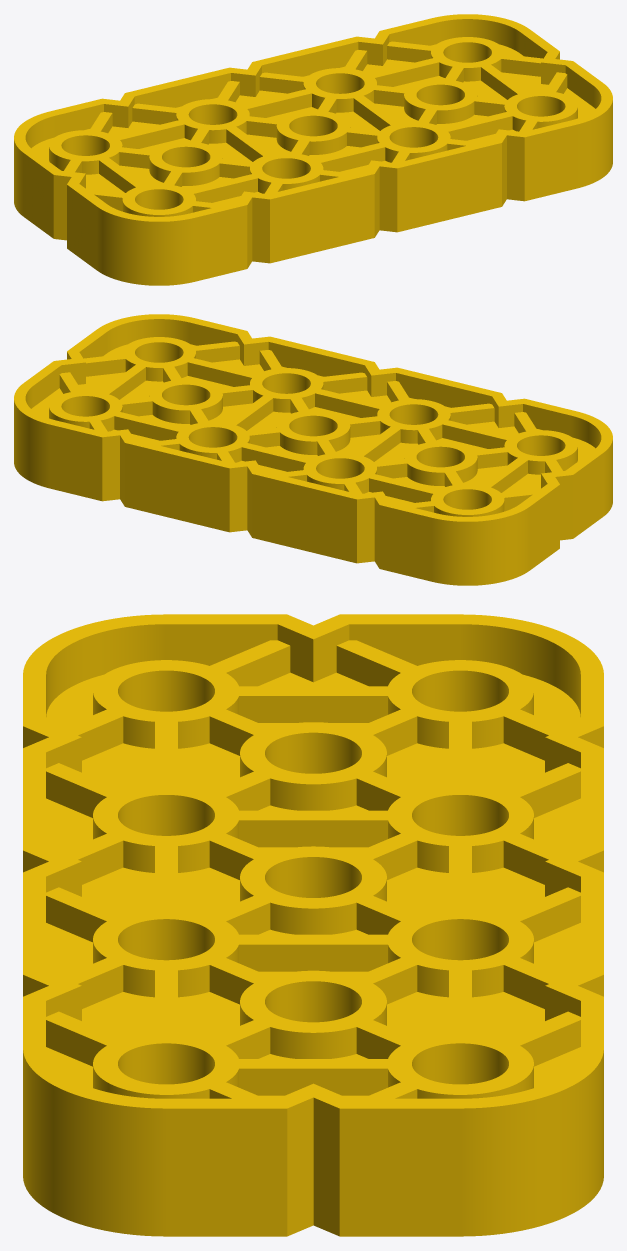
3 renders of one model, top to bottom at view 1: azimuth 30°, elevation 25°; view 2: azimuth 150°, elevation 25°; view 3: azimuth 270°, elevation 25°, orthographic. The views are drawn at different scales.
Parts seen in each view (by area): view 1: 228-2500-019; view 2: 228-2500-019; view 3: 228-2500-019.
Part boxes in pixels (x1,y1,x2,y2): 228-2500-019: [14, 14, 612, 285]; 228-2500-019: [14, 314, 612, 585]; 228-2500-019: [23, 614, 603, 1236].
Bounding box in the file's own units: 0.0505 × 0.0061 × 0.0251.
